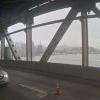Bridge: (2, 4, 89, 67)
